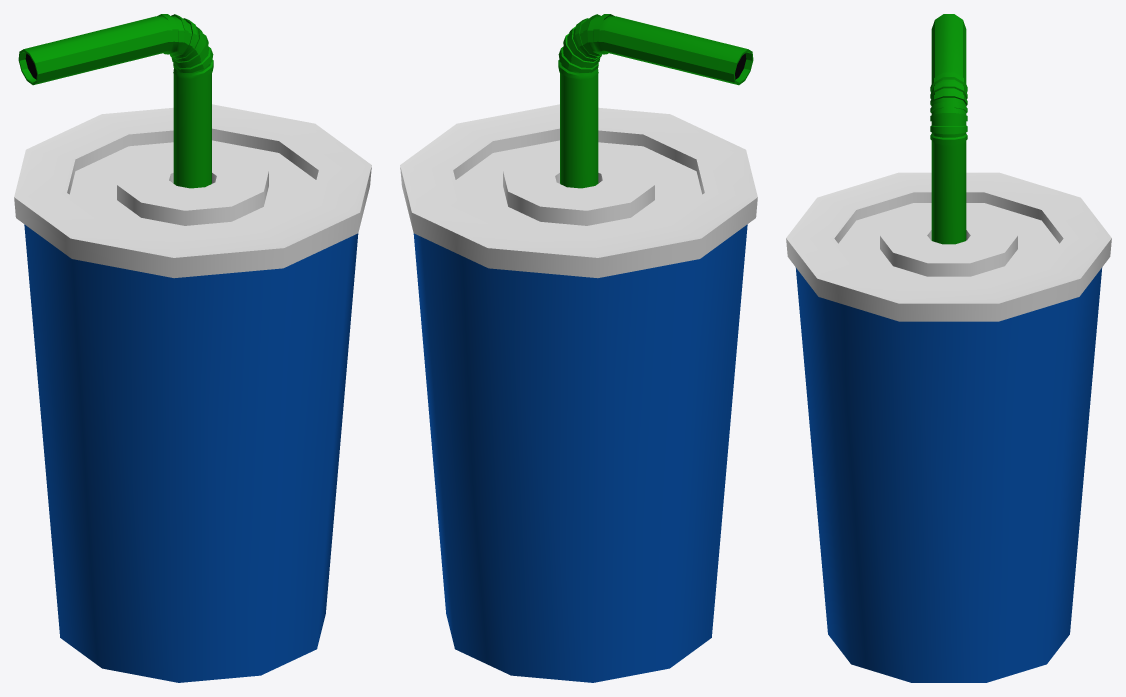
File: stakan2.fbx
3 renders of one model, left to right at view 1: azimuth 30°, elevation 25°; view 2: azimuth 150°, elevation 25°; view 3: azimuth 270°, elevation 25°, orthographic. The views are drawn at different scales.
Parts seen in each view (by area): view 1: stakan, pipe; view 2: stakan, pipe; view 3: stakan, pipe.
Part boxes in pixels (bbox=[...]): stakan: bbox=[14, 104, 371, 682]; pipe: bbox=[18, 14, 213, 188]; stakan: bbox=[400, 104, 757, 682]; pipe: bbox=[558, 14, 753, 188]; stakan: bbox=[786, 172, 1111, 682]; pipe: bbox=[930, 14, 967, 244].
Bounding box in the file's own units: 25.85 × 48.05 × 25.84.
2 materials, 2 textured.
